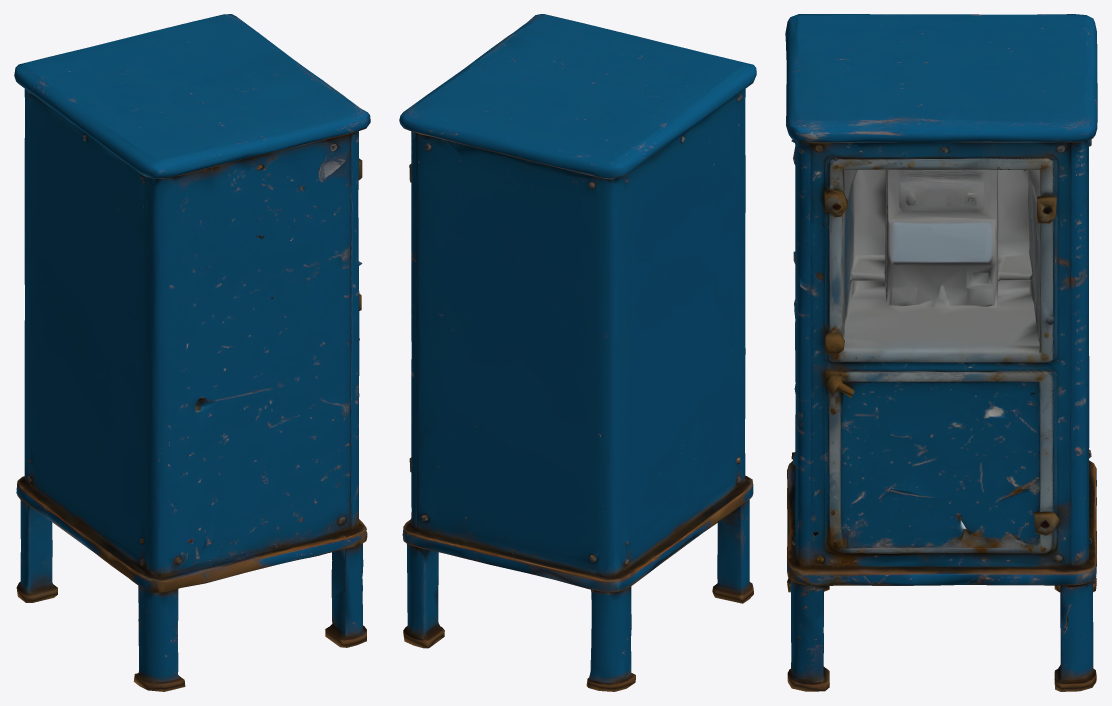
File: news_box.glb
3 renders of one model, left to right at view 1: azimuth 30°, elevation 25°; view 2: azimuth 150°, elevation 25°; view 3: azimuth 270°, elevation 25°, orthographic. The views are drawn at different scales.
Visible parts, largest first — view 1: tripo_node_e1572732-7afc-450d-ac23-34dfe672e297; view 2: tripo_node_e1572732-7afc-450d-ac23-34dfe672e297; view 3: tripo_node_e1572732-7afc-450d-ac23-34dfe672e297.
Boxes of the visible parts, x1=… form: tripo_node_e1572732-7afc-450d-ac23-34dfe672e297: x1=14, y1=14, x2=370, y2=691; tripo_node_e1572732-7afc-450d-ac23-34dfe672e297: x1=399, y1=14, x2=756, y2=691; tripo_node_e1572732-7afc-450d-ac23-34dfe672e297: x1=785, y1=14, x2=1097, y2=691.
Bounding box in the file's own units: 0.4586 × 1 × 0.4984.
1 material, 1 textured.
